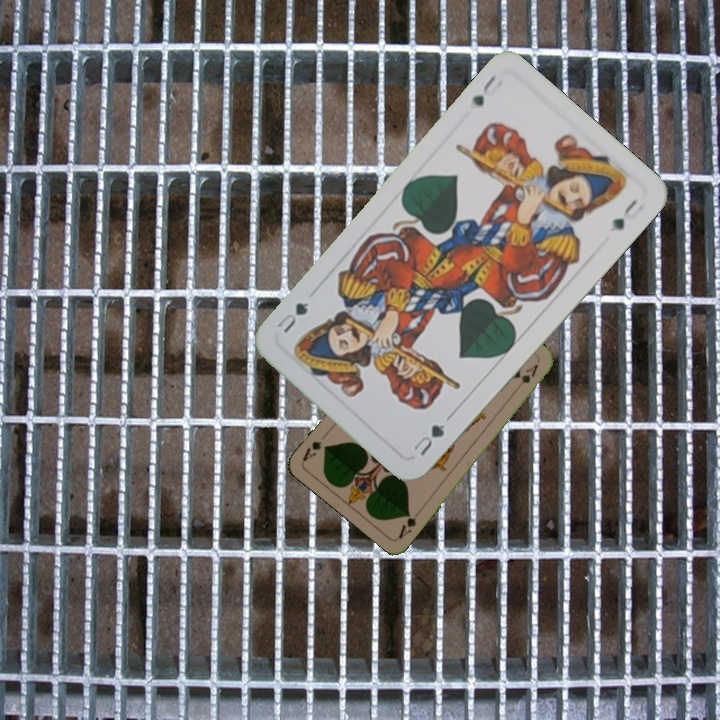GA: (394, 506, 423, 541)
GU: (407, 420, 448, 459), (468, 70, 506, 109)
